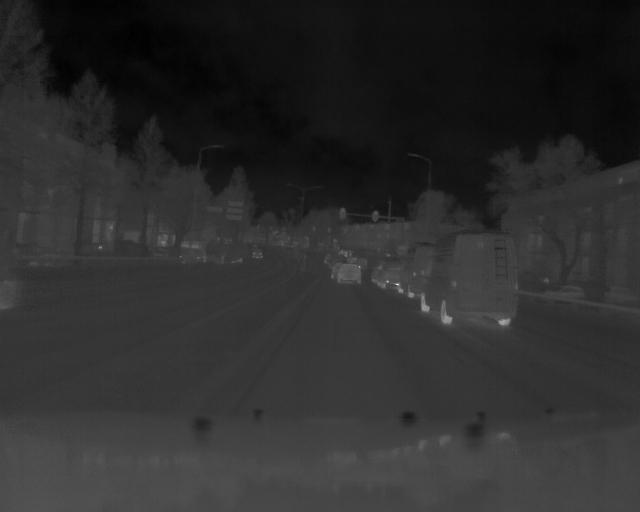car: (419, 227, 521, 330), (395, 237, 441, 301), (373, 257, 408, 291), (332, 262, 365, 288)
